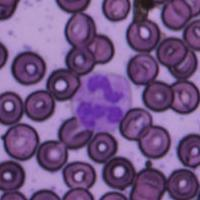N: (70, 70, 132, 132)
